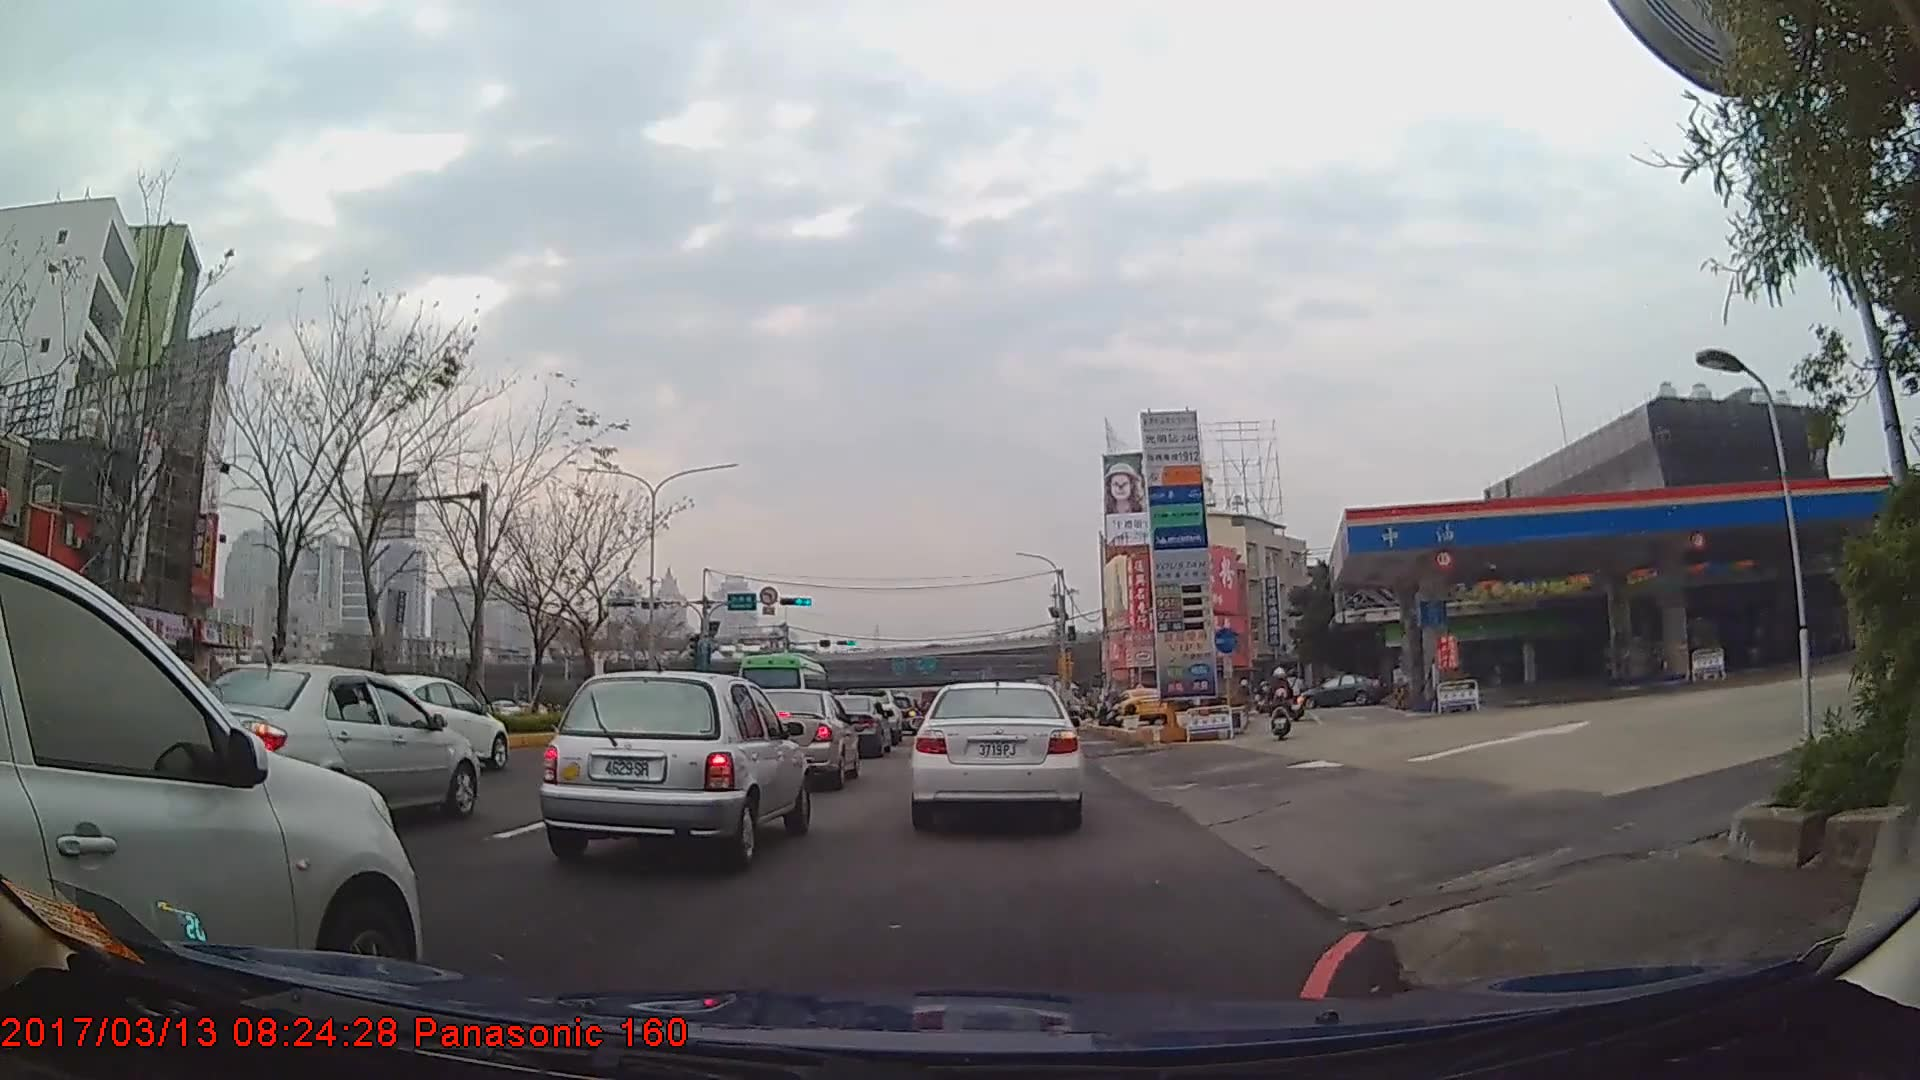rider: (1272, 668, 1296, 739), (1283, 670, 1306, 720)
vehicle: (0, 539, 422, 1019), (538, 669, 809, 865), (164, 660, 475, 821), (911, 675, 1084, 831), (335, 671, 507, 768), (734, 685, 861, 792), (732, 649, 828, 729), (812, 694, 891, 757), (1294, 673, 1386, 709), (1113, 686, 1169, 724)
